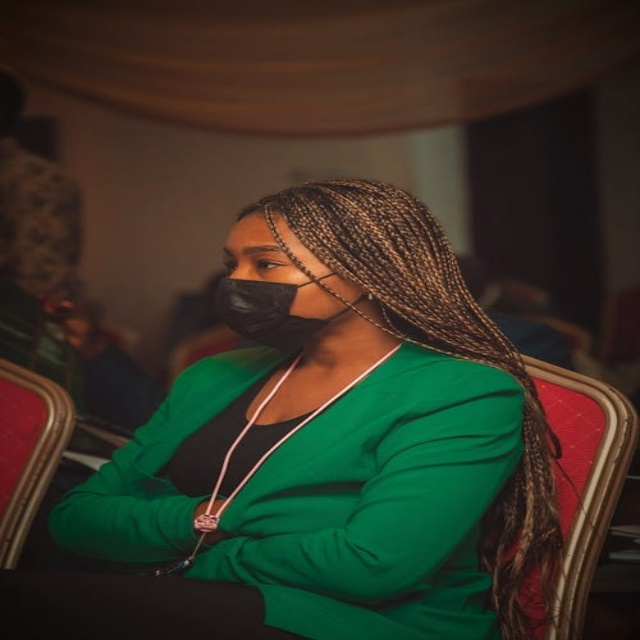Mascara: (213, 275, 336, 344)
Sin_gafas: (215, 240, 287, 272)
